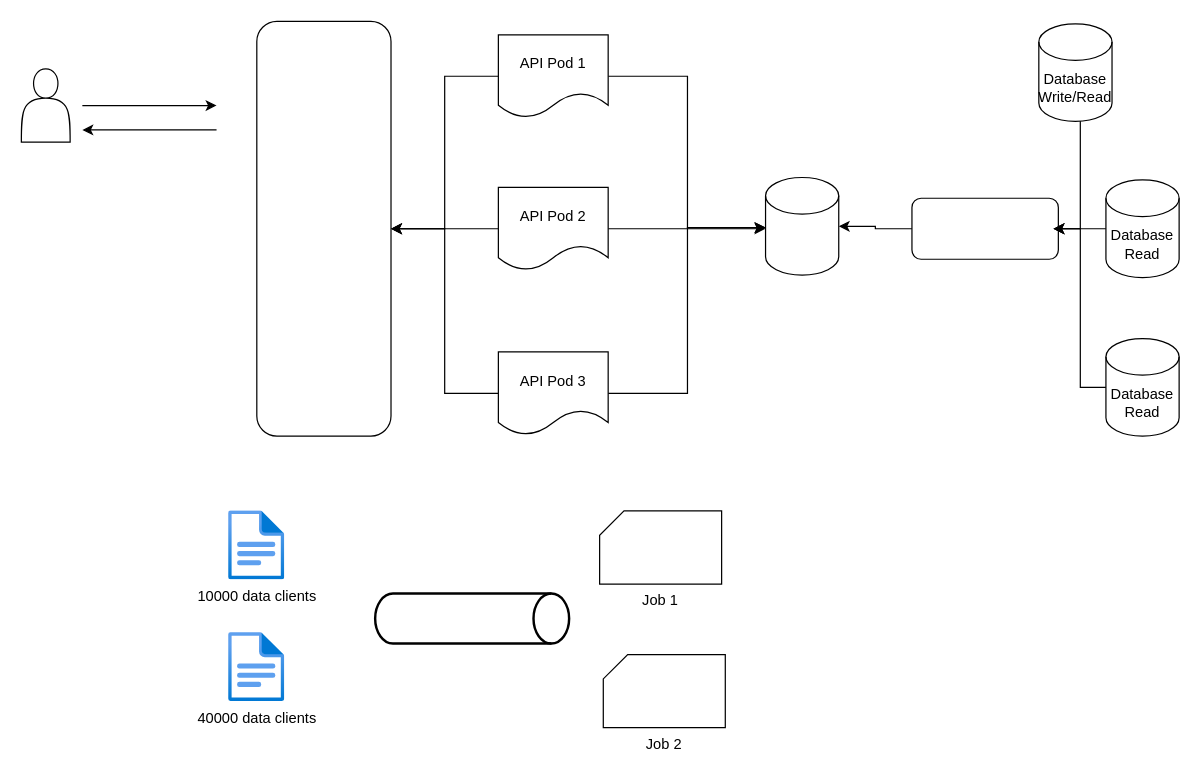
Some shapes in this 1200 by 775 pixel diagram are drawn without their labels. The shapes that lost their labels are listed below. From the top down, each one's centre as x and y in pixels, then its label:
[323,228]: API Load Balancer
[801,225]: Caching
[984,228]: DB Load Balancer
